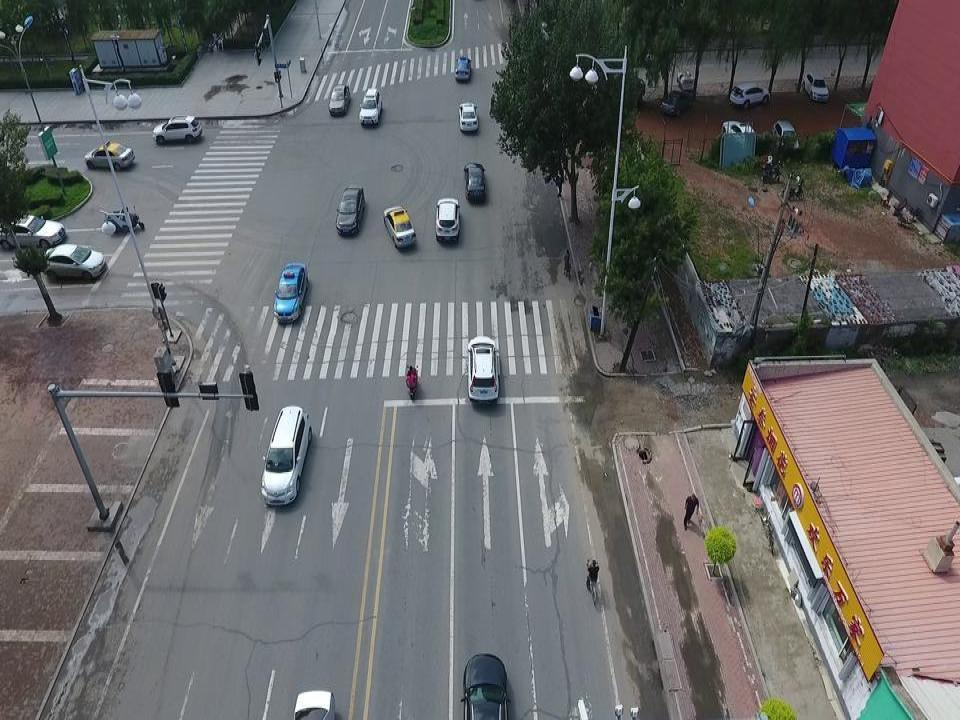car: (262, 407, 310, 504), (459, 653, 508, 720), (0, 212, 67, 248), (42, 244, 106, 277), (466, 337, 498, 401), (275, 263, 308, 324), (380, 205, 417, 248), (86, 141, 135, 171), (336, 188, 366, 235), (153, 116, 202, 143), (719, 117, 756, 152), (727, 81, 772, 108), (433, 199, 459, 244), (769, 119, 799, 152), (464, 164, 487, 201), (360, 90, 382, 126), (658, 91, 693, 113), (804, 72, 829, 100), (328, 84, 350, 113), (459, 103, 479, 133), (455, 56, 470, 80)
